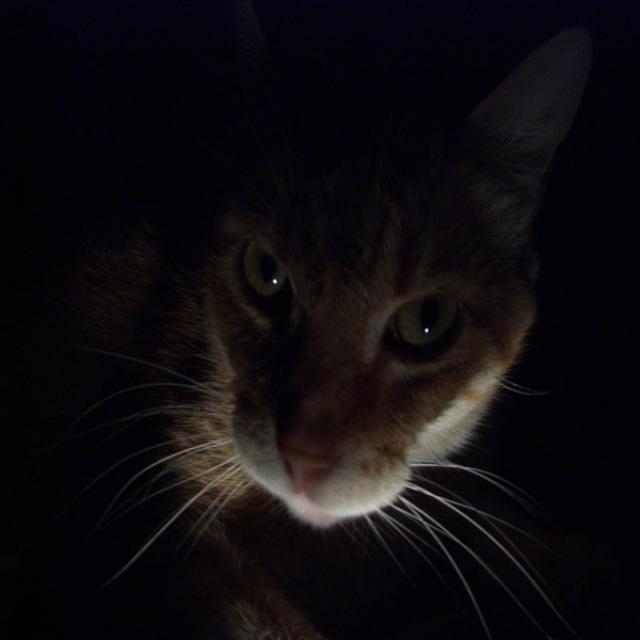Cat: (12, 0, 601, 640)
